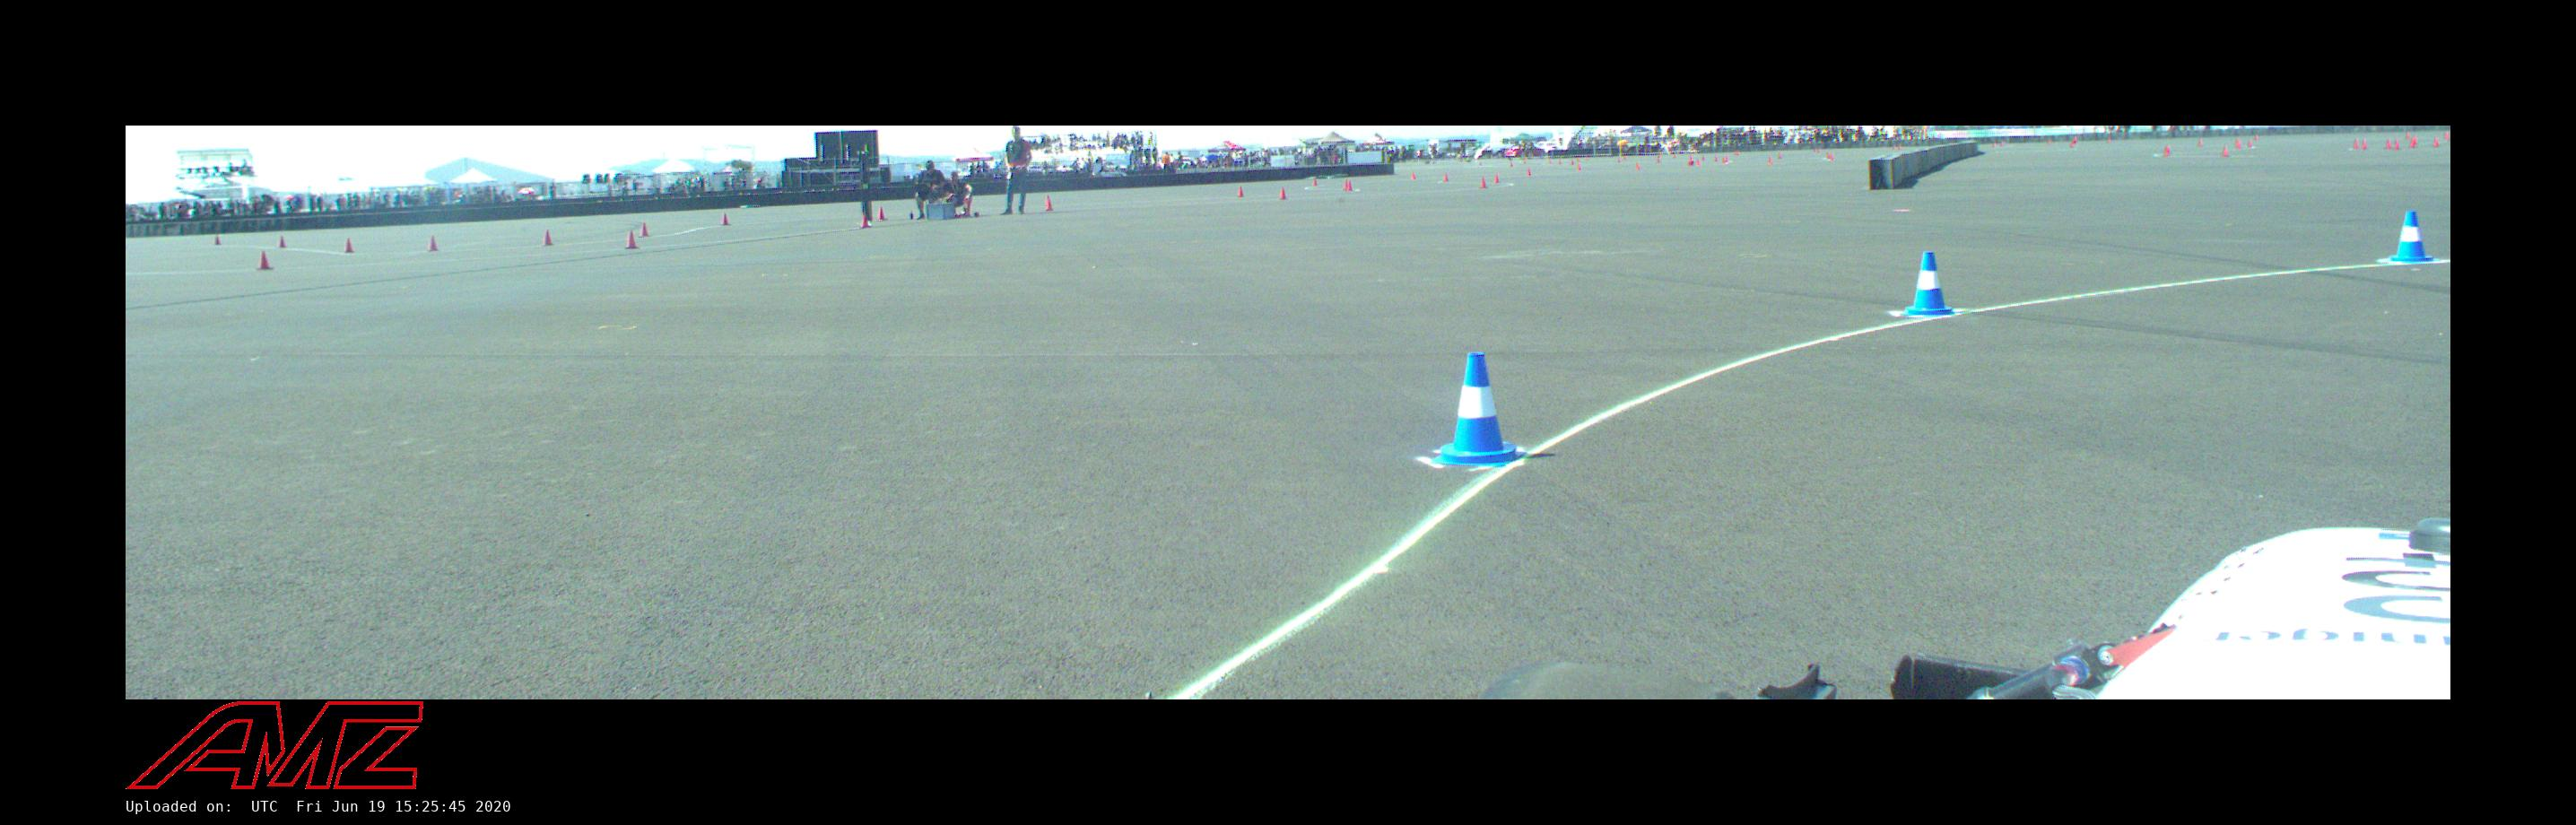blue_cone: (1434, 352, 1525, 465), (1904, 251, 1953, 316), (2387, 212, 2433, 263)
